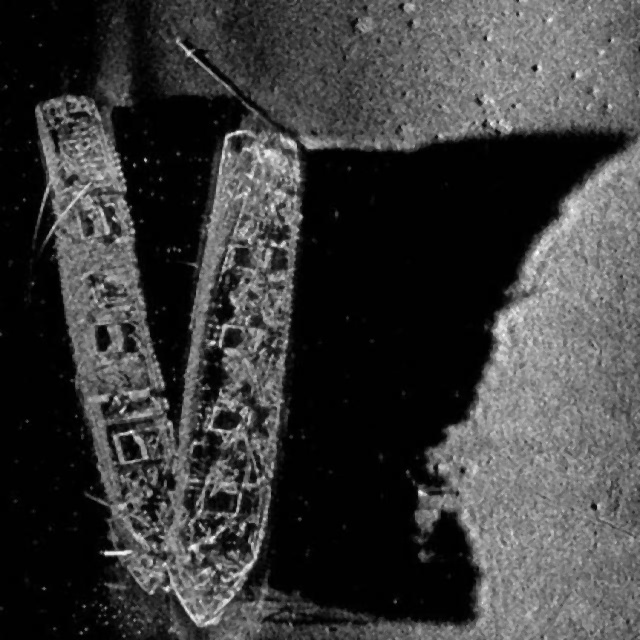Ship: (30, 78, 178, 611), (184, 82, 305, 628)
